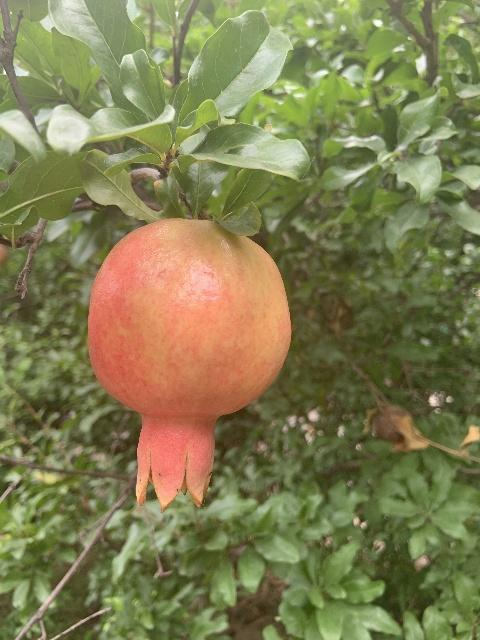ripe: (87, 219, 291, 512)
